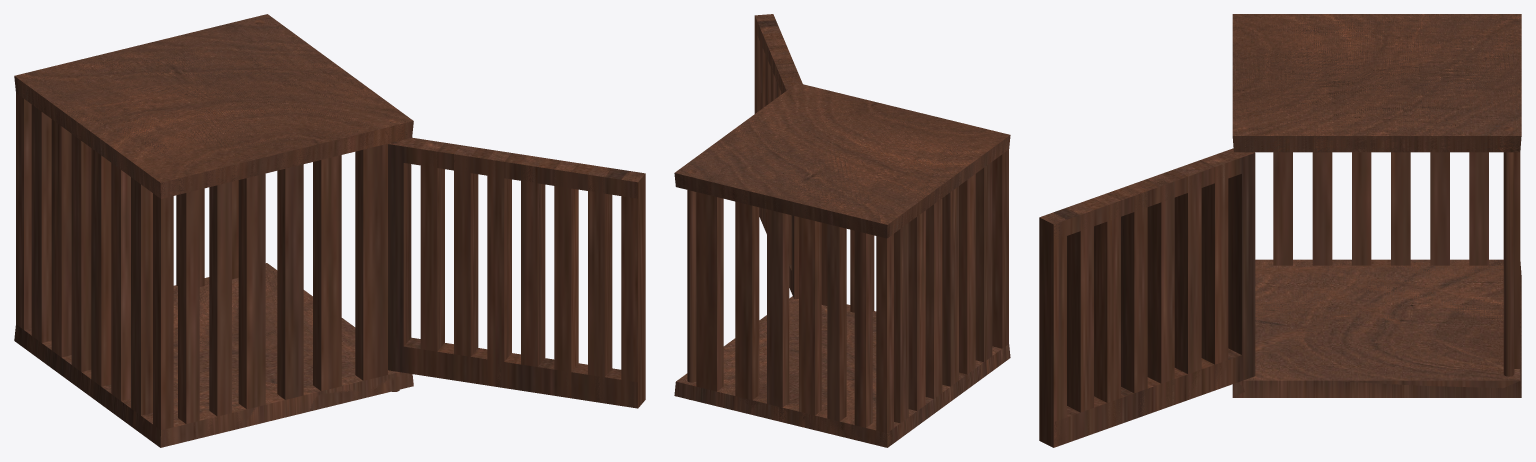
File: cage .fbx
The picture shows the model from 3 angles, left to right: view 1: azimuth 30°, elevation 25°; view 2: azimuth 150°, elevation 25°; view 3: azimuth 270°, elevation 25°; orthographic projection. The views are drawn at different scales.
Visible parts, largest first — view 1: Cylinder.001; view 2: Cylinder.001; view 3: Cylinder.001.
Part boxes in pixels (x1=…): Cylinder.001: x1=14, y1=14, x2=645, y2=447; Cylinder.001: x1=674, y1=14, x2=1010, y2=447; Cylinder.001: x1=1039, y1=14, x2=1521, y2=447.
Bounding box in the file's own units: 312 × 203 × 334.
